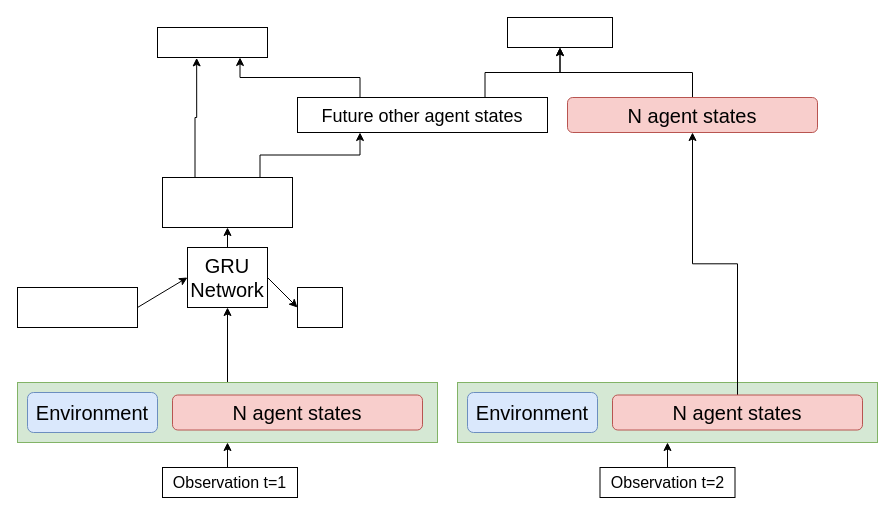
Some shapes in this 895 by 515 pixel diagram are drawn without their labels. The centre of each missing label's shape, as x and y in pixels:
Action: the point at 212,42
Dense Model: the point at 227,202
h_1: the point at 319,307
Hidden h_0: the point at 77,307
MSE-loss: the point at 559,32
